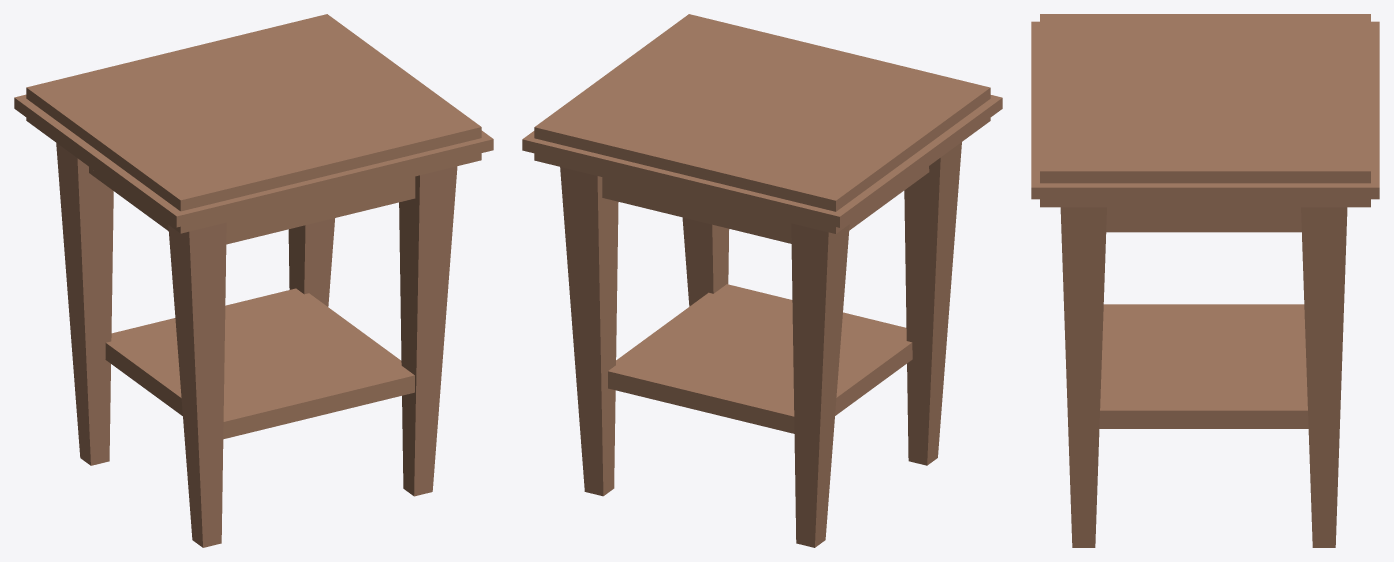
The model's file is table_de_chevet.fbx.
3 renders of one model, left to right at view 1: azimuth 30°, elevation 25°; view 2: azimuth 150°, elevation 25°; view 3: azimuth 270°, elevation 25°, orthographic. The views are drawn at different scales.
Parts seen in each view (by area): view 1: table_de_chevet; view 2: table_de_chevet; view 3: table_de_chevet.
Part boxes in pixels (<box>): table_de_chevet: <box>14,14,493,547</box>; table_de_chevet: <box>522,14,1002,547</box>; table_de_chevet: <box>1031,14,1379,547</box>.
Size of the model in its own units: 7.89 by 8.75 by 7.01.
